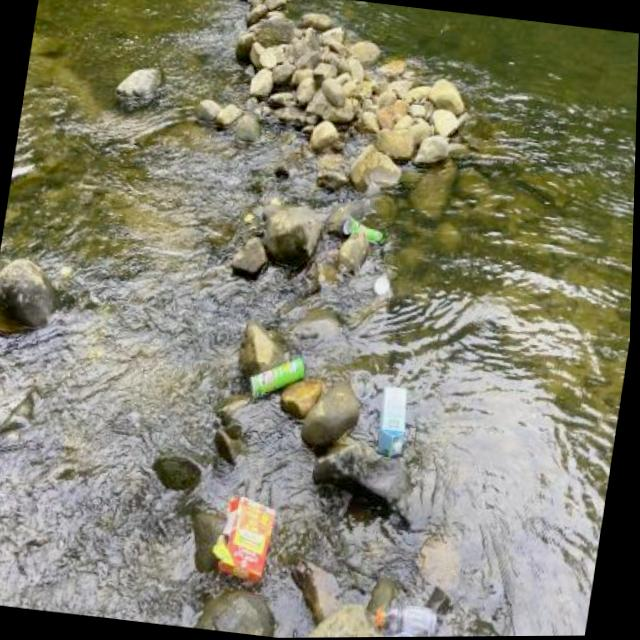Can-Metal: (244, 348, 310, 408), (338, 213, 388, 244)
Cardboard: (209, 489, 283, 587), (370, 378, 420, 467)
Plastic: (373, 598, 445, 638), (386, 625, 424, 638)
